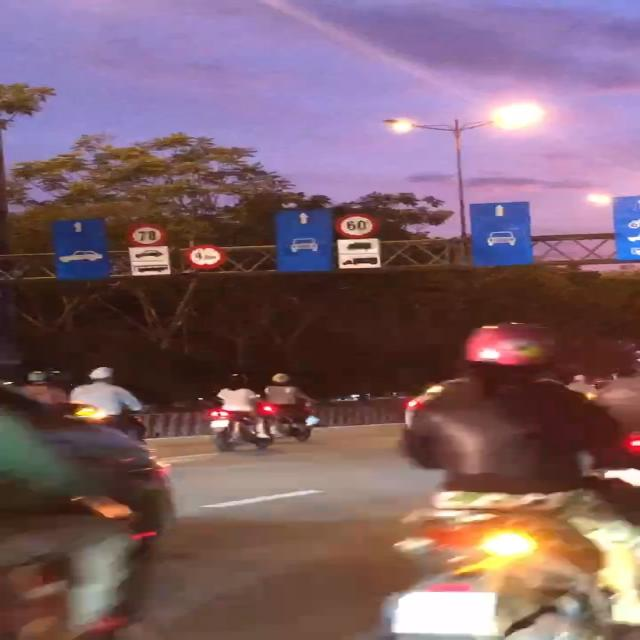Bien bao han che chieu cao: (183, 243, 225, 270)
Bien bao toc do toi da cho phep: (332, 209, 375, 238), (125, 222, 169, 246)
